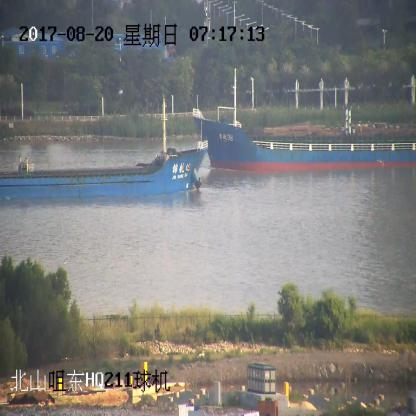Bulk Carrier: (0, 103, 207, 204), (194, 82, 415, 171)
